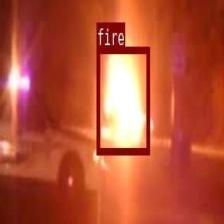fire: (96, 45, 149, 153)
